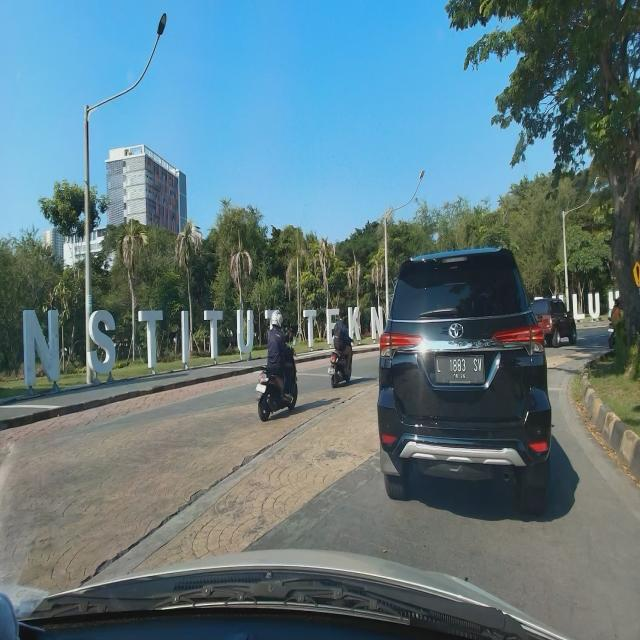car: (376, 241, 552, 520)
license-plate: (434, 356, 485, 382)
